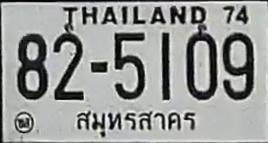0: (185, 30, 217, 100)
1: (161, 32, 170, 100)
2: (52, 31, 82, 99)
5: (114, 31, 144, 100)
8: (16, 33, 47, 99)
9: (222, 32, 254, 100)
SKN: (73, 106, 205, 139)
